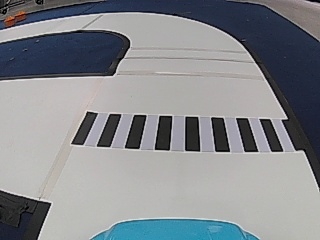CrossWalk: (71, 110, 293, 153)
